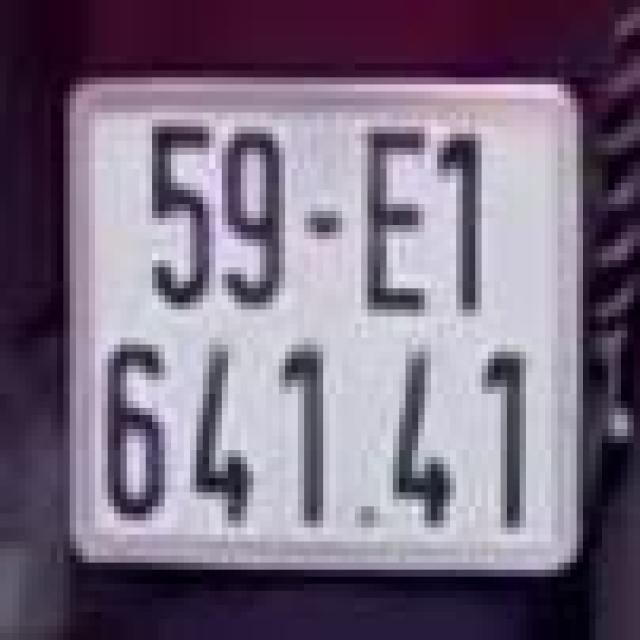1: (434, 116, 497, 334), (285, 320, 336, 545), (475, 338, 526, 548)
4: (387, 334, 462, 559), (193, 330, 263, 542)
5: (142, 106, 218, 310)
6: (101, 330, 178, 534)
9: (222, 112, 291, 324)
E: (349, 120, 437, 316)
